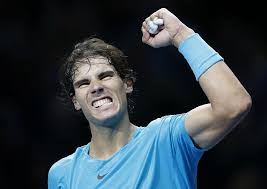fist: (138, 5, 181, 49)
